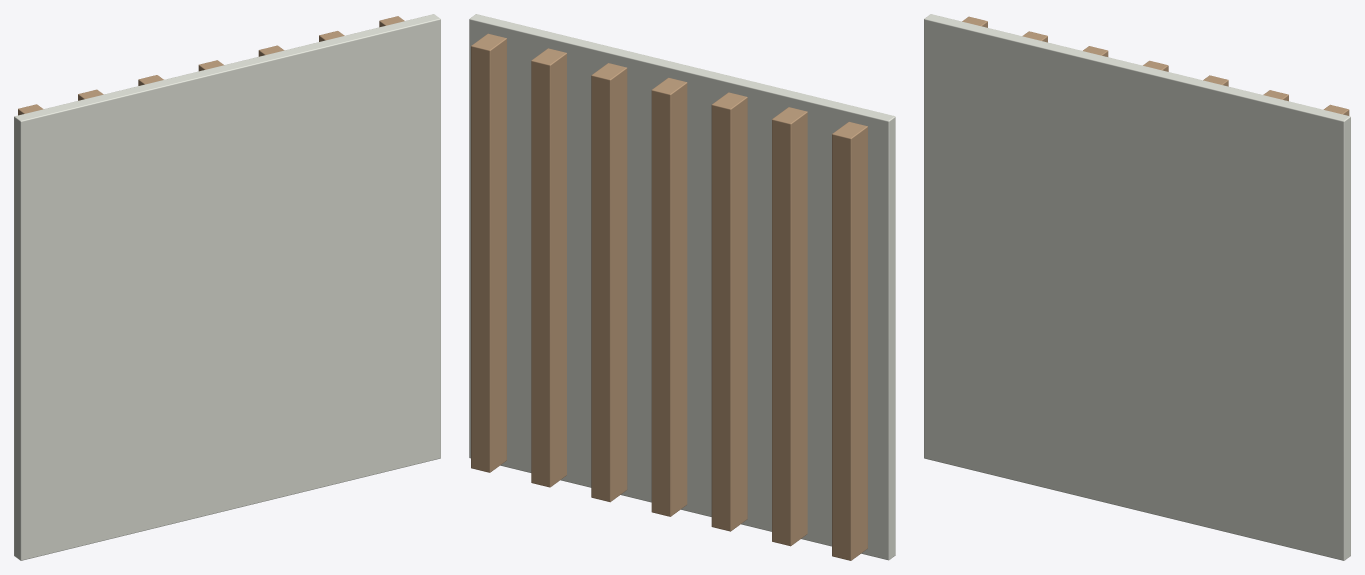
Rendered from Drywall1.fbx.
3 renders of one model, left to right at view 1: azimuth 30°, elevation 25°; view 2: azimuth 150°, elevation 25°; view 3: azimuth 330°, elevation 25°, orthographic.
Visible parts, largest first — view 1: Drywall1, Cube.124; view 2: Cube.124, Drywall1; view 3: Drywall1, Cube.124.
Boxes of the visible parts, x1,y1,x2,y2 form: Drywall1: (14,14,440,560); Cube.124: (18,16,404,115); Cube.124: (471,33,867,560); Drywall1: (469,14,895,560); Drywall1: (924,14,1350,560); Cube.124: (962,16,1349,115).
Bounding box in the file's own units: 294 × 294 × 29.06.
